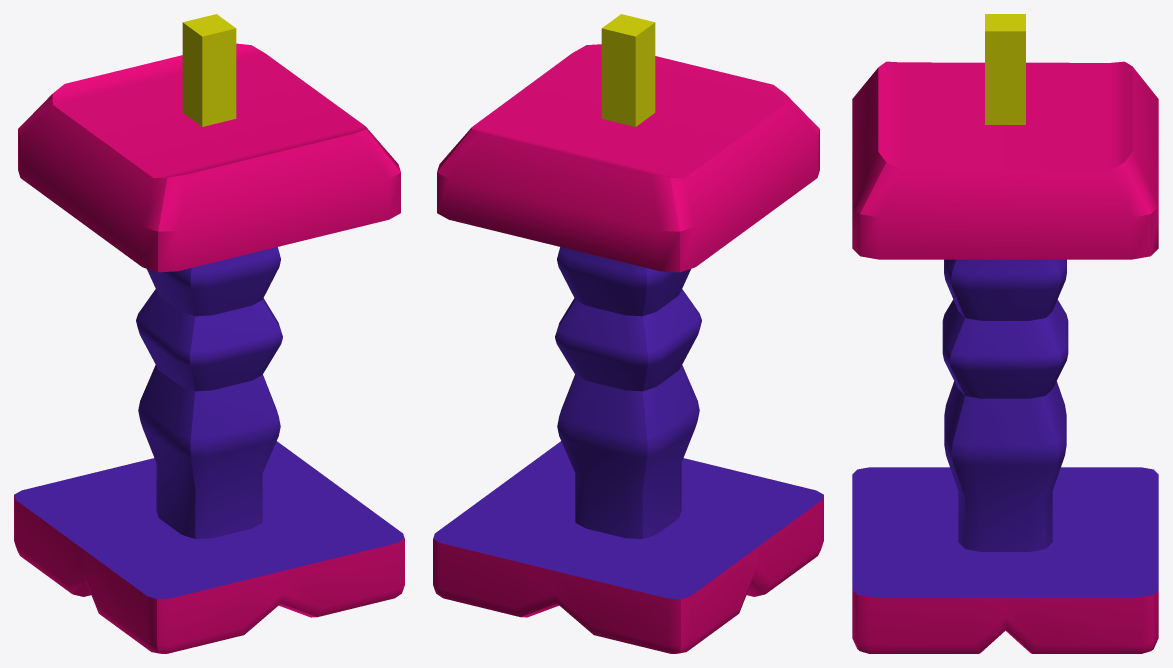
Rendered from Core 1.fbx.
3 views of the same model, side by side, from view 1: azimuth 30°, elevation 25°; view 2: azimuth 150°, elevation 25°; view 3: azimuth 270°, elevation 25° (orthographic). The views are drawn at different scales.
Parts seen in each view (by area): view 1: pCube3, pCube4, pCube1, pCube5; view 2: pCube3, pCube4, pCube1, pCube5; view 3: pCube3, pCube4, pCube1, pCube5.
Boxes of the visible parts, x1,y1,x2,y2 form: pCube3: [18, 43, 400, 272]; pCube4: [14, 441, 404, 653]; pCube1: [136, 247, 282, 538]; pCube5: [182, 14, 236, 126]; pCube3: [437, 44, 819, 272]; pCube4: [433, 441, 823, 653]; pCube1: [555, 247, 701, 538]; pCube5: [601, 14, 655, 126]; pCube3: [852, 61, 1158, 259]; pCube4: [852, 467, 1158, 653]; pCube1: [942, 259, 1068, 551]; pCube5: [985, 14, 1025, 124].
Size of the model in its own units: 2.3 by 4.75 by 2.3.
